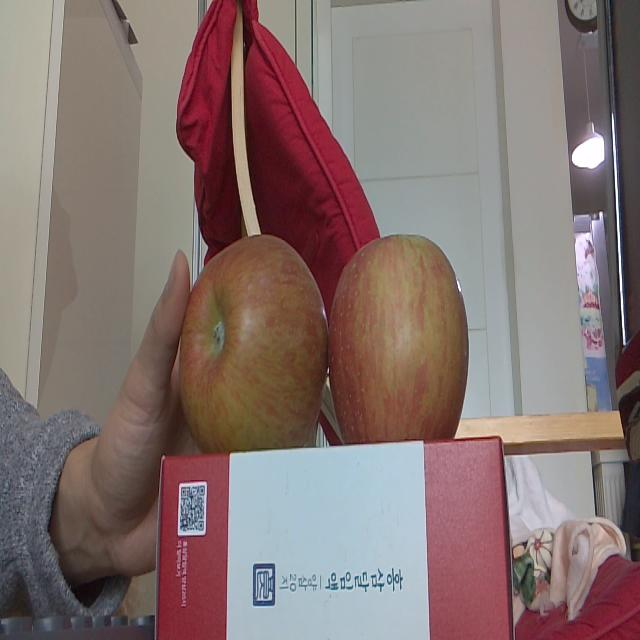apple: (172, 225, 328, 448), (328, 223, 474, 445)
